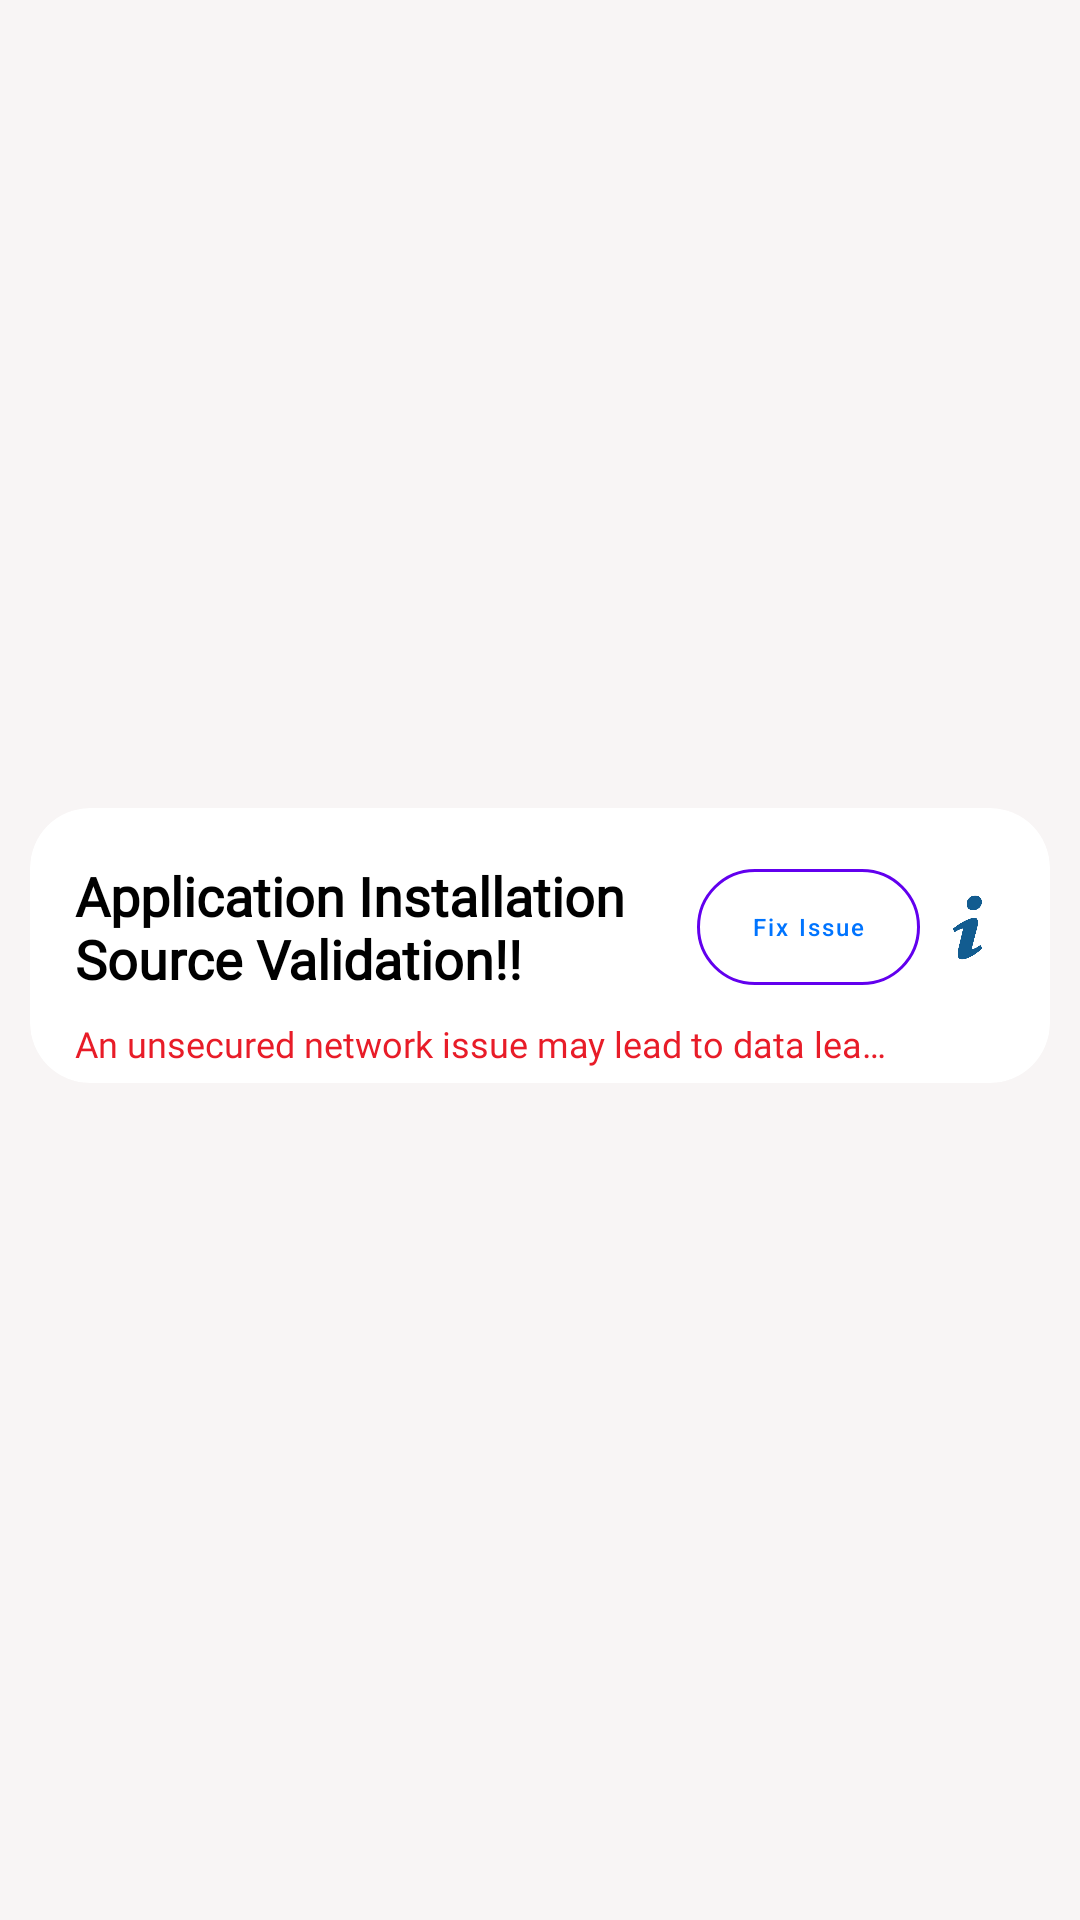

Point at icon controls on the screen. Image size 1080w x 1920h, points as (x,y).
ap info: (967,927)
